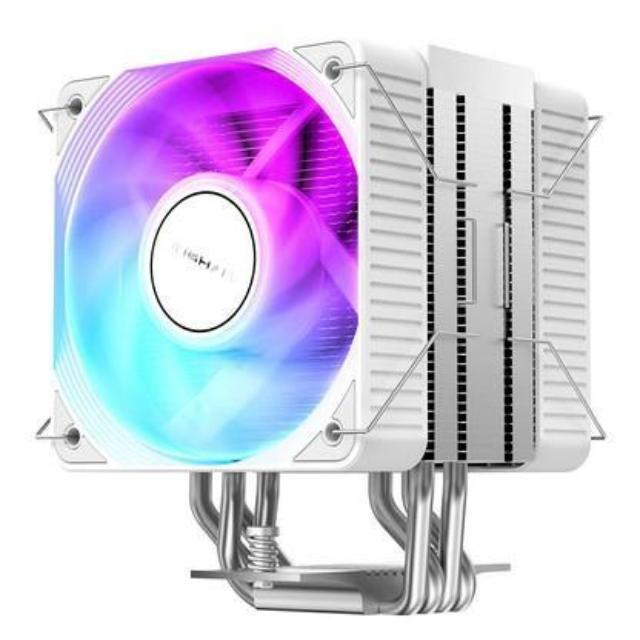CPU_Fan: (14, 20, 614, 631)
